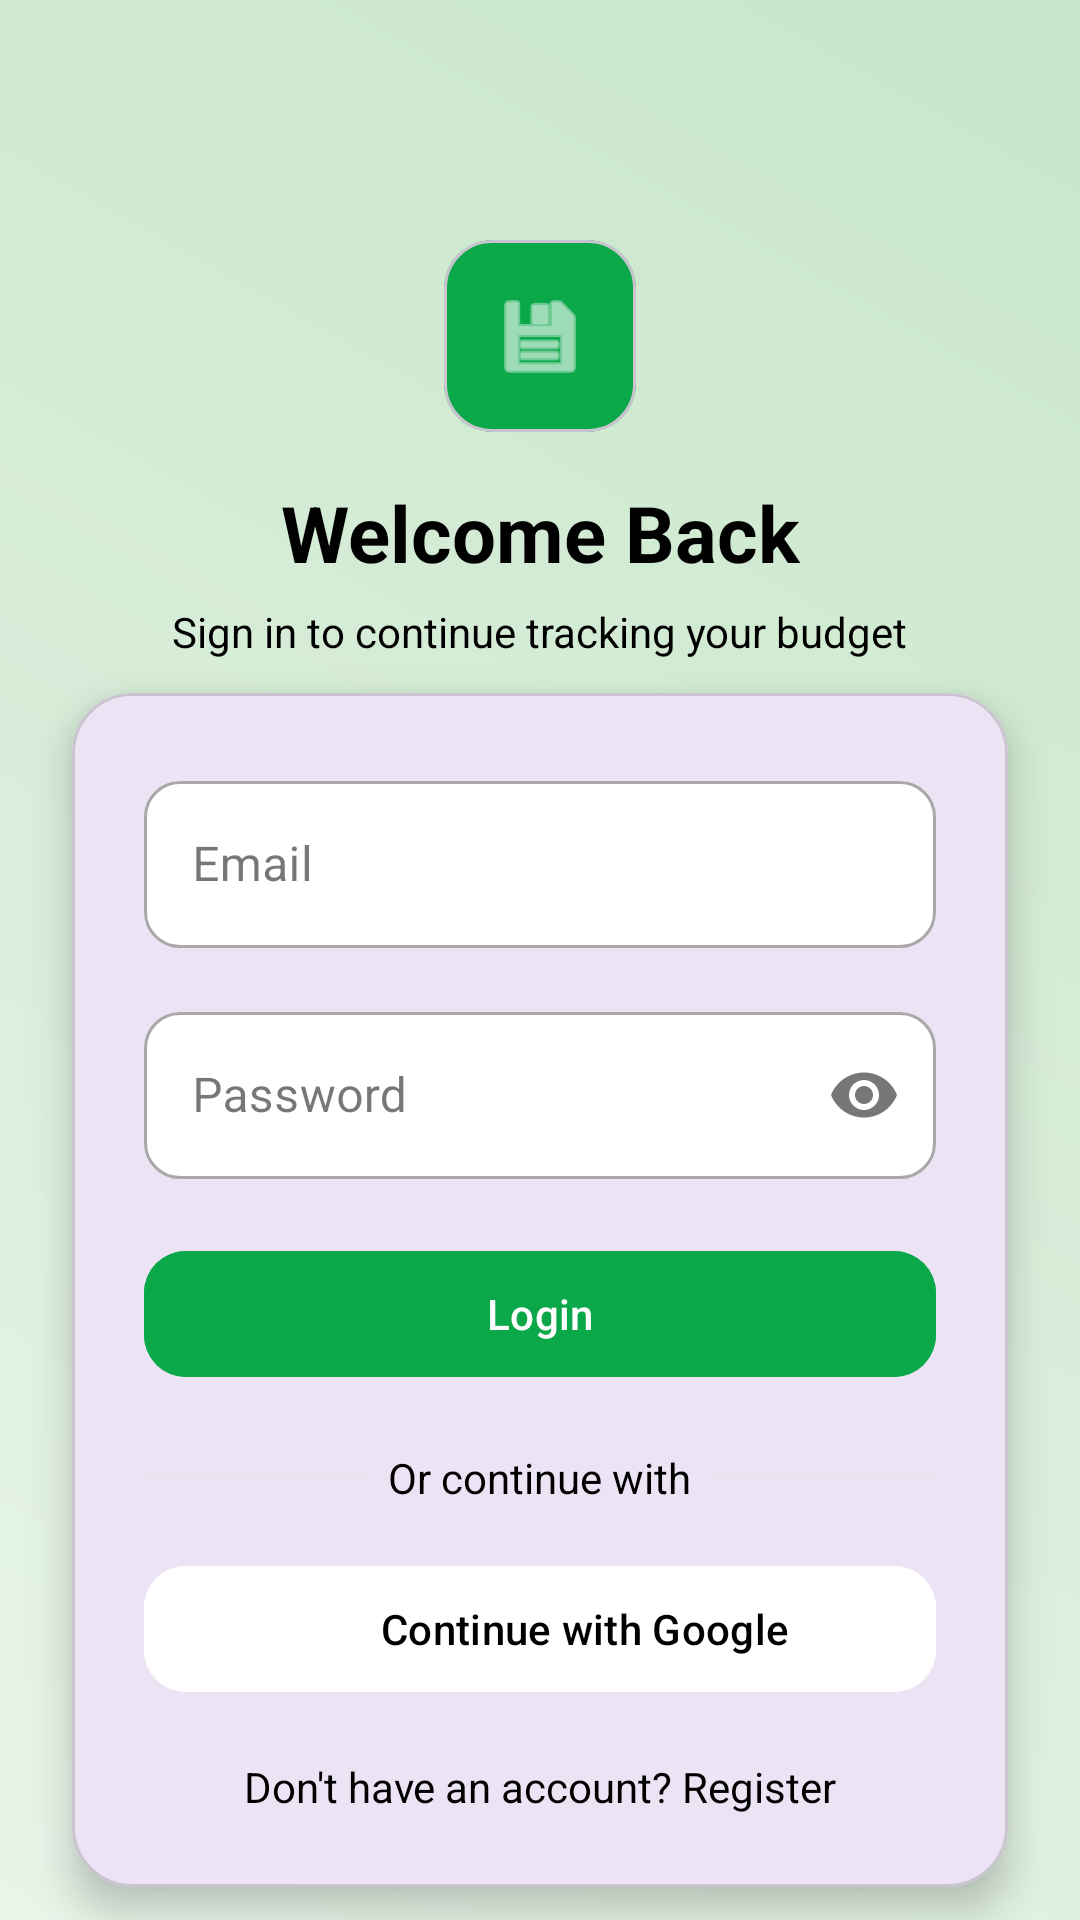

Named icons in this screenshot (1080x1920) and their centers, [x,y]:
save: [540,336]
